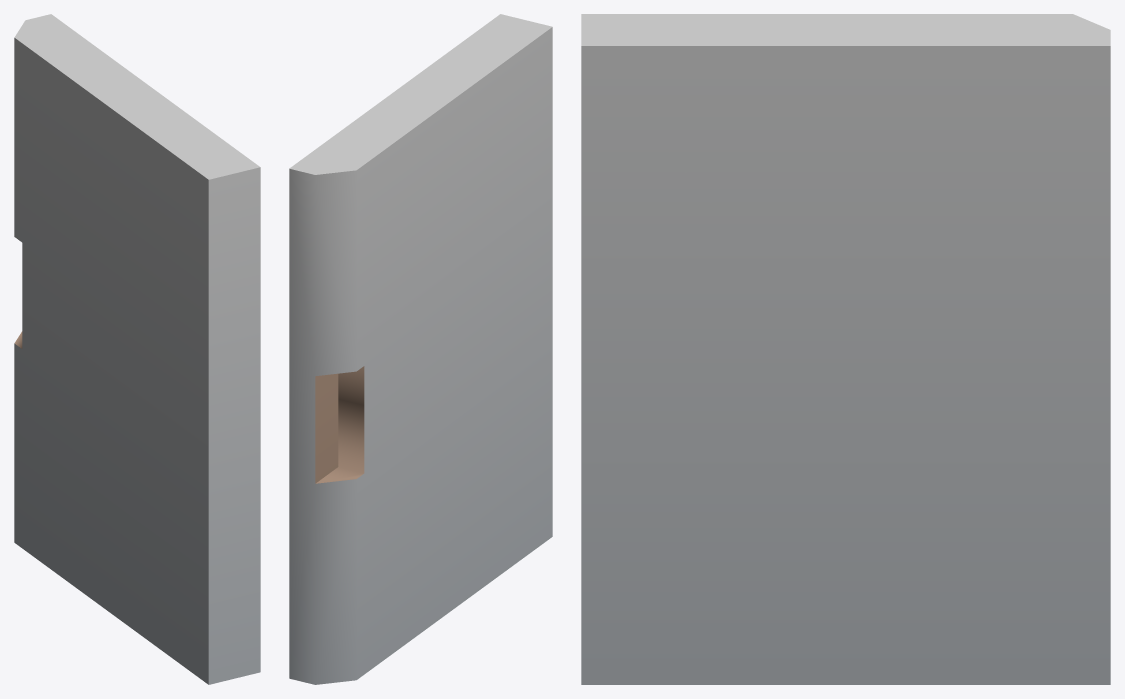
Rendered from (%no-merge) (%open-right) 3.glb.
The picture shows the model from 3 angles, left to right: view 1: azimuth 30°, elevation 25°; view 2: azimuth 150°, elevation 25°; view 3: azimuth 270°, elevation 25°; orthographic projection. The views are drawn at different scales.
Parts seen in each view (by area): view 1: (%no-merge) (%open-right) 3; view 2: (%no-merge) (%open-right) 3; view 3: (%no-merge) (%open-right) 3.
Boxes of the visible parts, x1,y1,x2,y2 form: (%no-merge) (%open-right) 3: (14, 14, 260, 684); (%no-merge) (%open-right) 3: (289, 14, 552, 684); (%no-merge) (%open-right) 3: (581, 14, 1110, 684).
Size of the model in its own units: 0.05 by 0.466 by 0.35.
